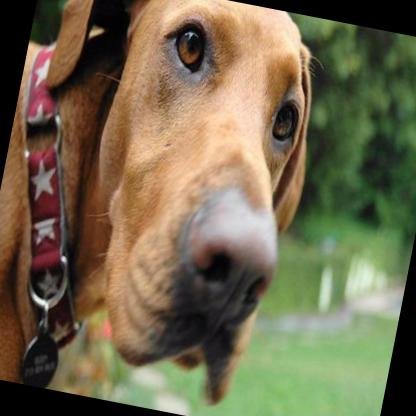vizsla: (0, 0, 331, 416)
